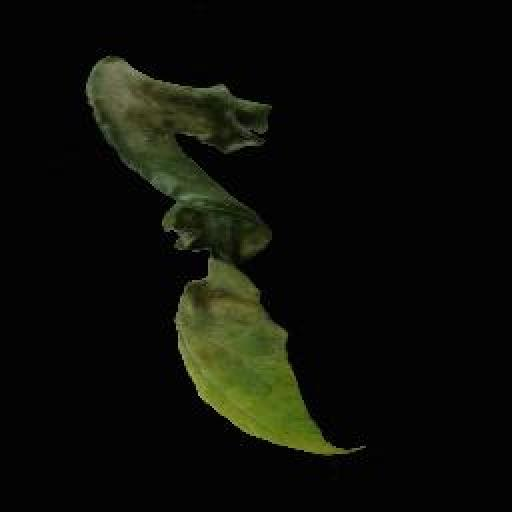Late Blight: (90, 53, 374, 464)
